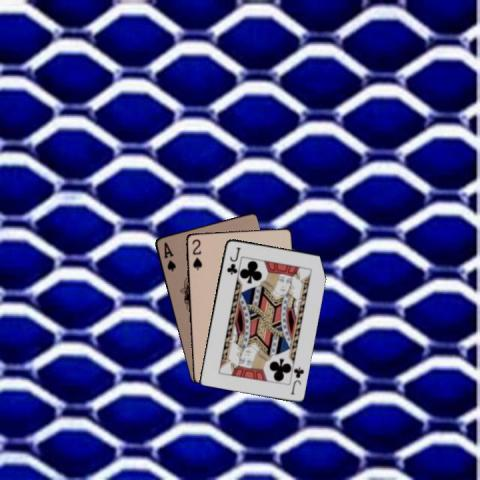2s: (190, 236, 204, 271)
As: (161, 239, 177, 272)
Jc: (287, 364, 306, 396), (223, 244, 241, 275)
